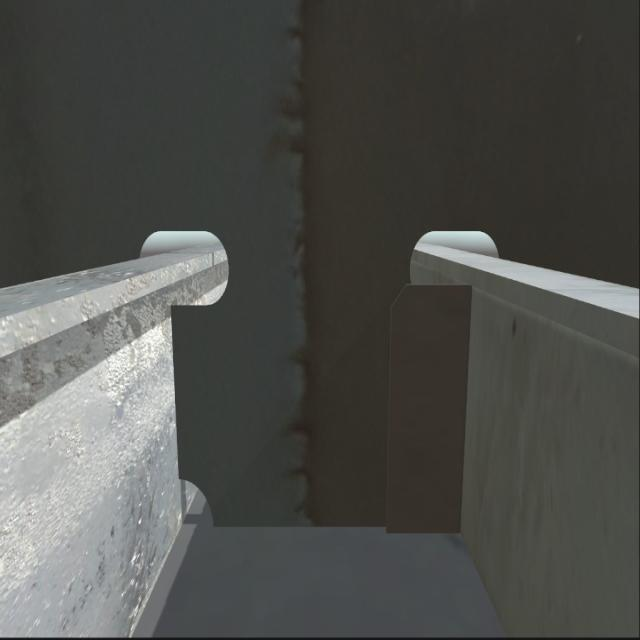fillet_hole: (175, 484, 212, 530)
fillet_yong_jeop_jang: (199, 517, 462, 543)
longi_yong_jeop_jang: (450, 276, 476, 542), (165, 294, 183, 484)
plate_CP03: (385, 282, 471, 538)
